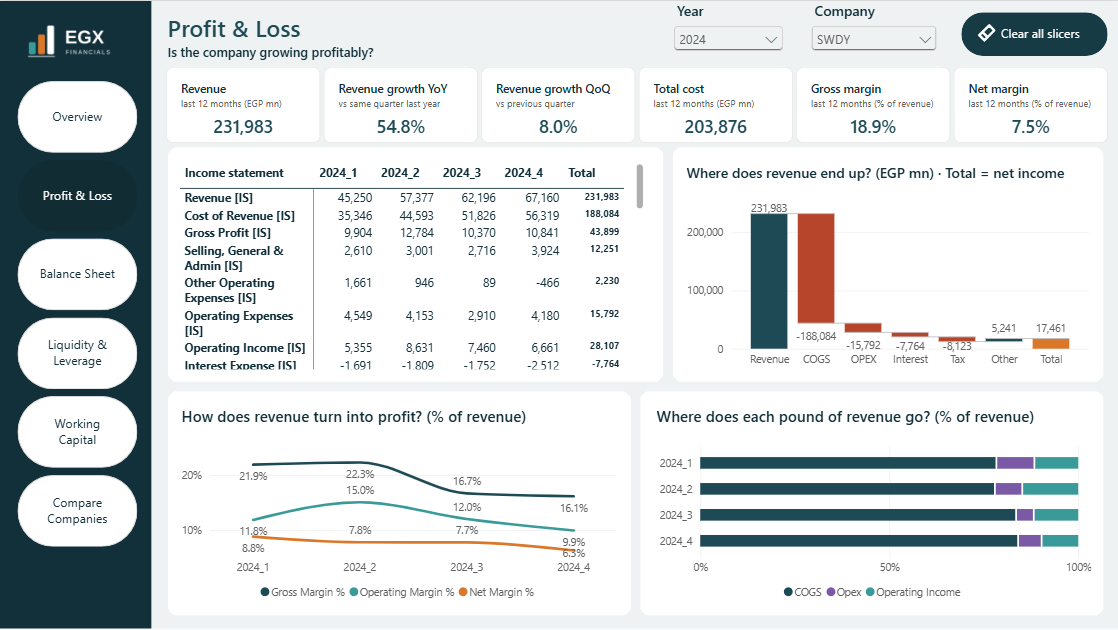

This screenshot's page, from the dashboard's own definition file:
{"tool":"powerbi","page":{"name":"Profit & Loss","canvas":[1280,720],"ordinal":1},"visuals":[{"type":"slicer","fields":{"Values":["DimCalendar.Year"]},"box":[765,0,133.8,75],"z":0},{"type":"slicer","fields":{"Values":["DimCompany.Company"]},"box":[922.5,0,152.5,75],"z":1000},{"type":"actionButton","box":[1098.8,12.5,167.5,50],"z":2000},{"type":"pageNavigator","box":[20,91.2,137.5,537.5],"z":3000},{"type":"image","box":[24,14,125,60],"z":4000},{"type":"textbox","box":[192,12.5,560,56],"z":5000},{"type":"kpi","title":"Revenue","fields":{"Indicator":["_Measures.Revenue TTM"],"TrendLine":["DimCalendar.Quarter_Year"]},"box":[190,75.2,176.2,86.2],"z":6000},{"type":"kpi","title":"Net margin","fields":{"Indicator":["_Measures.Net Margin % TTM"],"TrendLine":["DimCalendar.Quarter_Year"]},"box":[1090,75.2,176.2,86.2],"z":7000},{"type":"kpi","title":"Revenue growth YoY","fields":{"Indicator":["_Measures.Revenue YoY % (latest Q)"],"TrendLine":["DimCalendar.Quarter_Year"]},"box":[370,75.2,176.2,86.2],"z":8000},{"type":"kpi","title":"Revenue growth QoQ","fields":{"Indicator":["_Measures.Revenue QoQ % (latest Q)"],"TrendLine":["DimCalendar.Quarter_Year"]},"box":[550,75.2,176.2,86.2],"z":9000},{"type":"kpi","title":"Total cost","fields":{"Indicator":["_Measures.Total Cost TTM"],"TrendLine":["DimCalendar.Quarter_Year"]},"box":[730,75.2,176.2,86.2],"z":10000},{"type":"kpi","title":"Gross margin","fields":{"Indicator":["_Measures.Gross Margin % TTM"],"TrendLine":["DimCalendar.Quarter_Year"]},"box":[910,75.2,176.2,86.2],"z":11000},{"type":"pivotTable","fields":{"Columns":["DimCalendar.Quarter_Year"],"Rows":["DimAccount.Account_Label"],"Values":["_Measures.Amount"]},"box":[190,171.4,561.4,265.7],"z":12000},{"type":"waterfallChart","title":"Revenue to net income","fields":{"Category":["Waterfall Items.Item"],"Y":["_Measures.Waterfall Value"]},"box":[769,170,492,268],"z":13000},{"type":"lineChart","title":"Cost structure (% of revenue)","fields":{"Category":["DimCalendar.Quarter_Year"],"Y":["_Measures.COGS %","_Measures.Opex %","_Measures.Net Margin %"]},"box":[192,449,529,256],"z":14000},{"type":"hundredPercentStackedBarChart","title":"Revenue split (% of revenue)","fields":{"Category":["DimCalendar.Quarter_Year"],"Y":["_Measures.COGS","_Measures.Opex","_Measures.Operating Income"]},"box":[734,449,529,256],"z":15000}]}

Visuals, with their boxes in screenshot pixels (x1, y1, x2, y2), scaled from the page's 1280x720 canvas onto the 1118x630 screenshot:
slicer - DimCalendar.Year: (668,0,785,66)
slicer - DimCompany.Company: (806,0,939,66)
actionButton: (960,11,1106,55)
pageNavigator: (17,80,138,550)
image: (21,12,130,65)
textbox: (168,11,657,60)
"Revenue" kpi: (166,66,320,141)
"Net margin" kpi: (952,66,1106,141)
"Revenue growth YoY" kpi: (323,66,477,141)
"Revenue growth QoQ" kpi: (480,66,634,141)
"Total cost" kpi: (638,66,792,141)
"Gross margin" kpi: (795,66,949,141)
pivotTable - DimCalendar.Quarter_Year x DimAccount.Account_Label: (166,150,656,382)
"Revenue to net income" waterfallChart: (672,149,1101,383)
"Cost structure (% of revenue)" lineChart: (168,393,630,617)
"Revenue split (% of revenue)" hundredPercentStackedBarChart: (641,393,1103,617)
